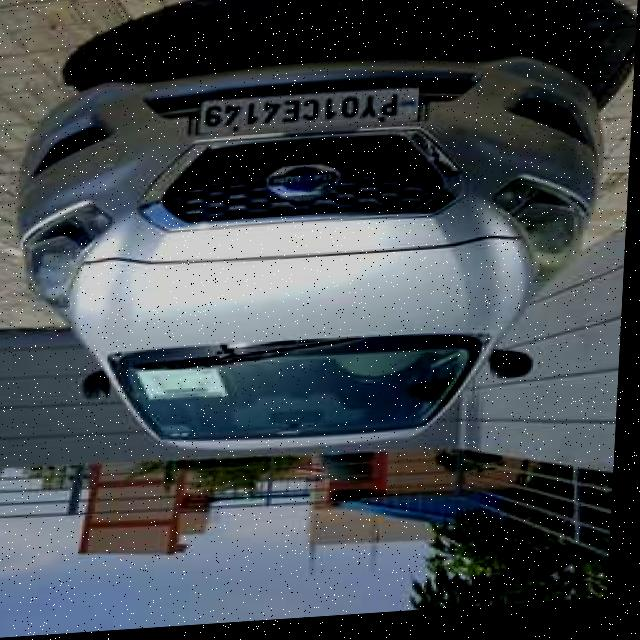plate: (197, 91, 421, 141)
